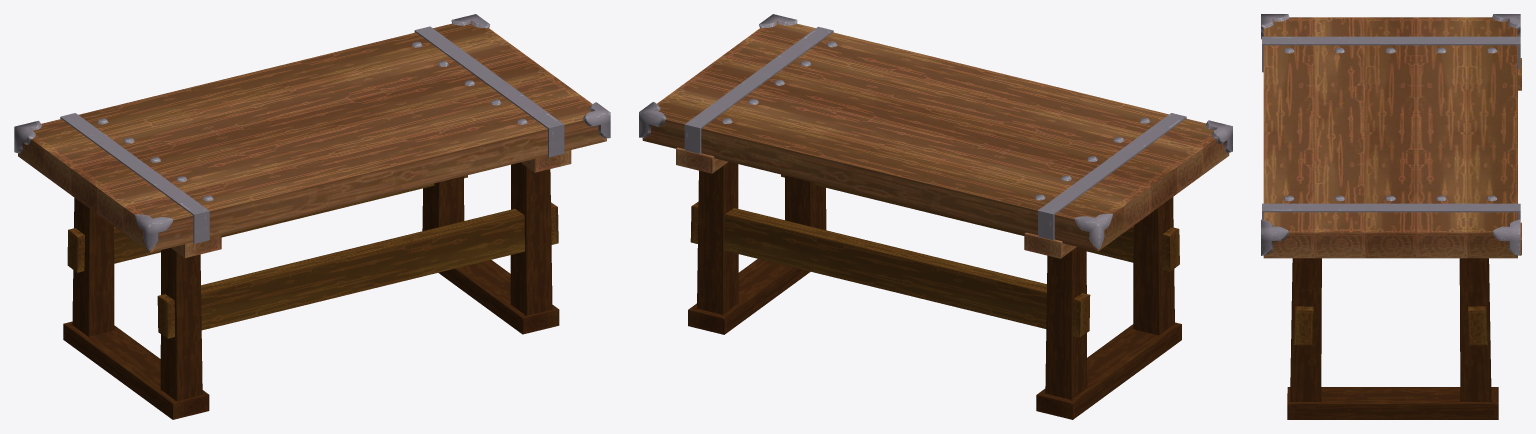
File: workbench.glb
3 views of the same model, side by side, from view 1: azimuth 30°, elevation 25°; view 2: azimuth 150°, elevation 25°; view 3: azimuth 270°, elevation 25° (orthographic). The views are drawn at different scales.
Visible parts, largest first — view 1: Workbench; view 2: Workbench; view 3: Workbench.
Part boxes in pixels (<box>): Workbench: <box>14,14,610,419</box>; Workbench: <box>639,14,1232,419</box>; Workbench: <box>1261,14,1521,419</box>.
Bounding box in the file's own units: 2.02 × 0.8947 × 1.02.
Materials: 2 (2 with a texture image).
